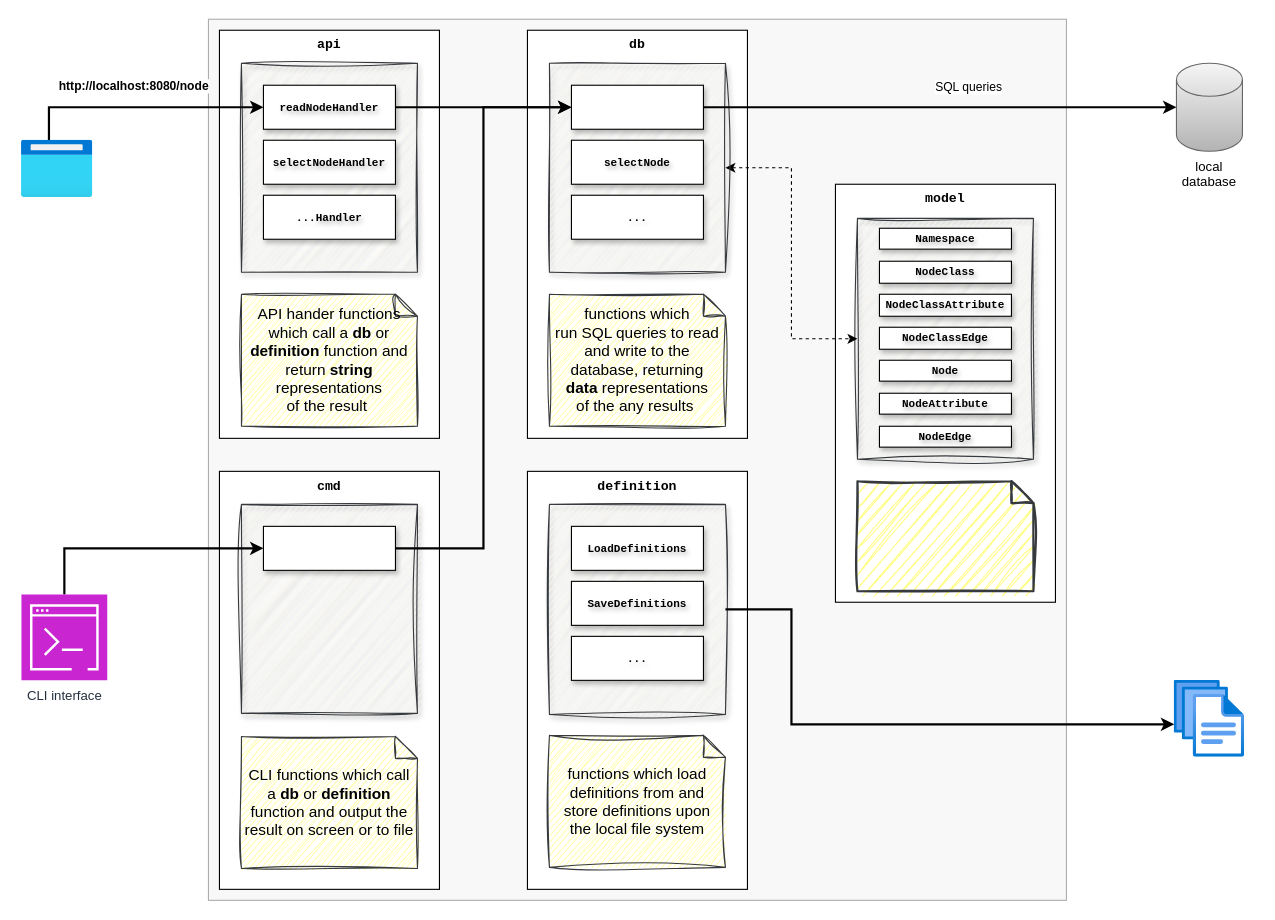
The diagram is 1275 pixels wide and 920 high, and some of its shapes have lost their labels. The centre of each missing label's shape, as x and y in pixels:
"API interface" goes at pixel 56 168.
"local file system" goes at pixel 1209 718.
"readNode" goes at pixel 330 549.
"ReadNodeByID" goes at pixel 638 108.
"struct definitions for data that is processed by db functions" goes at pixel 945 536.
